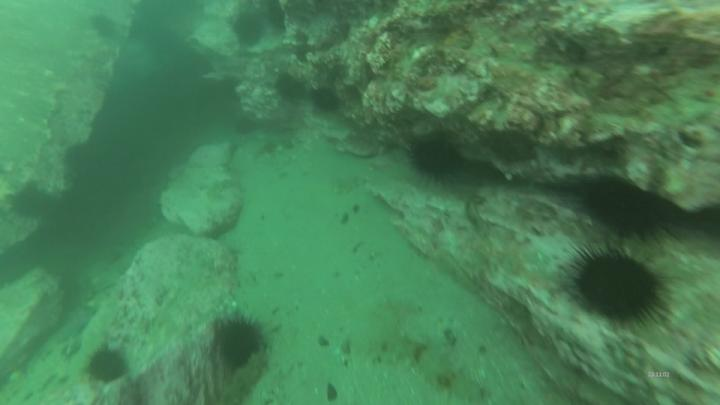echinus: (581, 243, 665, 338), (584, 179, 660, 239), (404, 128, 469, 190), (209, 314, 262, 372), (85, 339, 132, 388), (231, 11, 269, 50), (314, 84, 344, 116), (278, 69, 306, 102)
